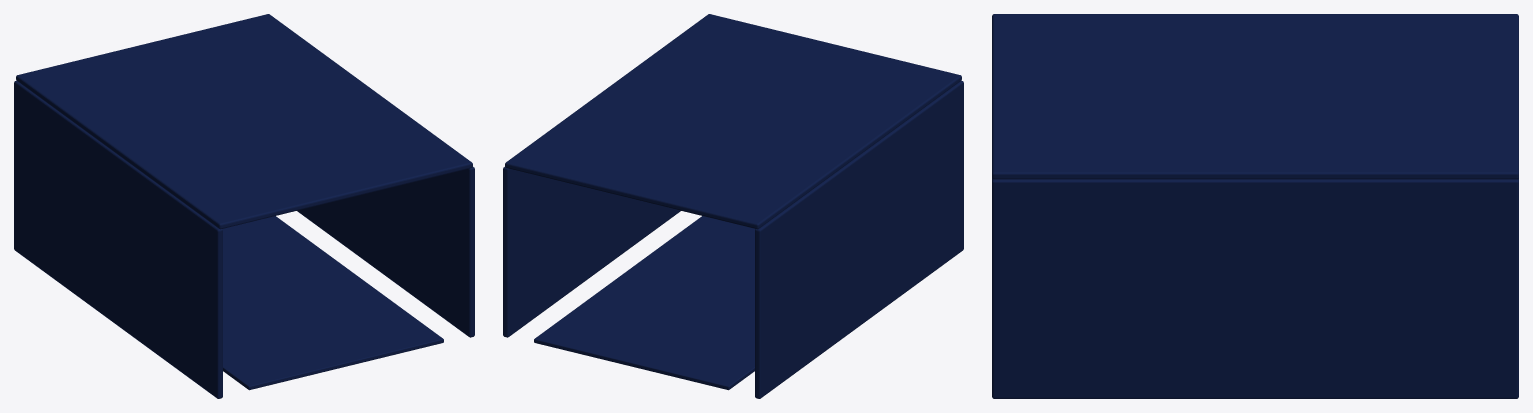
The model's file is infinite_neon_portal_shell.glb.
The picture shows the model from 3 angles, left to right: view 1: azimuth 30°, elevation 25°; view 2: azimuth 150°, elevation 25°; view 3: azimuth 270°, elevation 25°; orthographic projection. The views are drawn at different scales.
Visible parts, largest first — view 1: Mirror Portal Ceiling, Left Mirror Portal Wall, Mirror Portal Floor, Right Mirror Portal Wall; view 2: Mirror Portal Ceiling, Left Mirror Portal Wall, Mirror Portal Floor, Right Mirror Portal Wall; view 3: Right Mirror Portal Wall, Mirror Portal Ceiling.
Boxes of the visible parts, x1,y1,x2,y2 form: Mirror Portal Ceiling: [16, 14, 472, 229]; Left Mirror Portal Wall: [14, 80, 222, 398]; Mirror Portal Floor: [222, 216, 443, 390]; Right Mirror Portal Wall: [297, 167, 474, 337]; Mirror Portal Ceiling: [505, 14, 961, 229]; Left Mirror Portal Wall: [755, 80, 963, 398]; Mirror Portal Floor: [534, 216, 755, 390]; Right Mirror Portal Wall: [503, 167, 680, 337]; Right Mirror Portal Wall: [992, 179, 1518, 398]; Mirror Portal Ceiling: [992, 14, 1518, 179].
Bounding box in the file's own units: 13.2 × 8.56 × 18.12.
